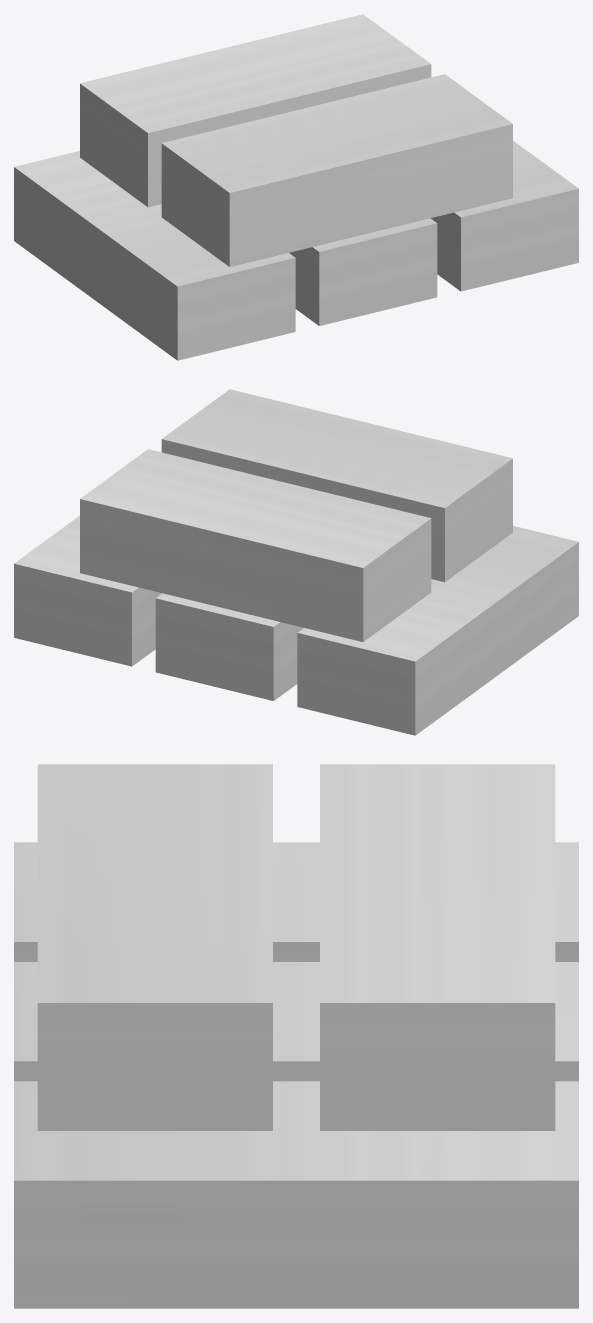
File: item_gold.obj
The picture shows the model from 3 angles, top to bottom: view 1: azimuth 30°, elevation 25°; view 2: azimuth 150°, elevation 25°; view 3: azimuth 270°, elevation 25°; orthographic projection. The views are drawn at different scales.
Visible parts, largest first — view 1: item_gold; view 2: item_gold; view 3: item_gold.
Part boxes in pixels (<box>): item_gold: <box>14,14,578,360</box>; item_gold: <box>14,389,578,735</box>; item_gold: <box>14,764,578,1308</box>.
Bounding box in the file's own units: 0.34 × 0.12 × 0.24.
